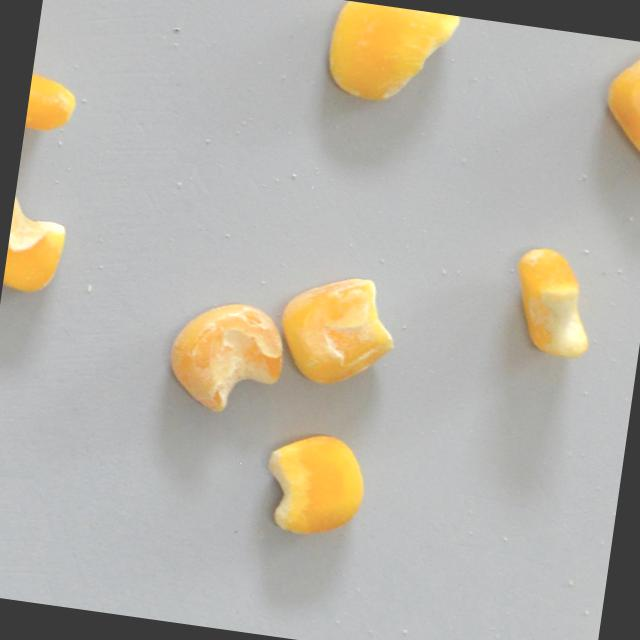estandar: (23, 66, 82, 138)
no_canjicado: (320, 0, 462, 112), (256, 428, 373, 544), (505, 245, 602, 362)
no_desgerminado: (1, 186, 73, 300)
pelicula: (273, 267, 404, 396), (159, 296, 291, 423), (592, 40, 640, 176)
